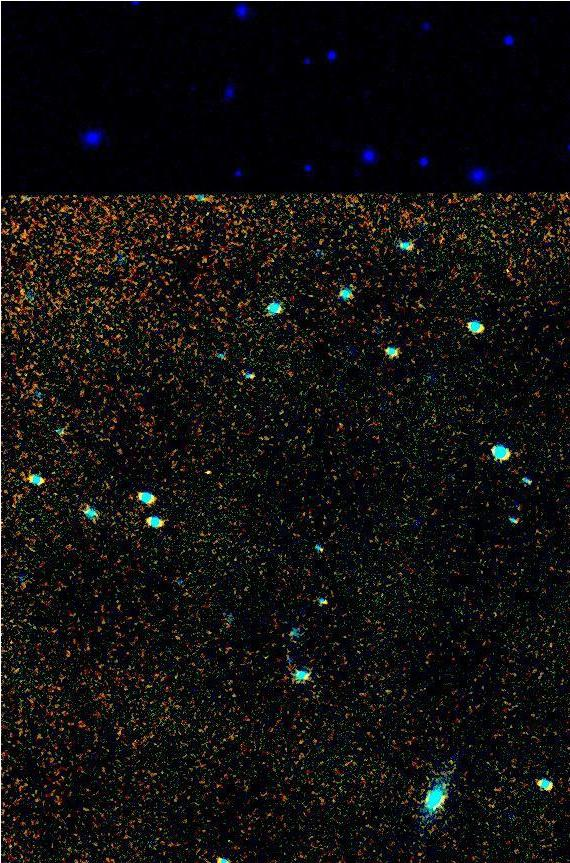star: (194, 455, 224, 485)
